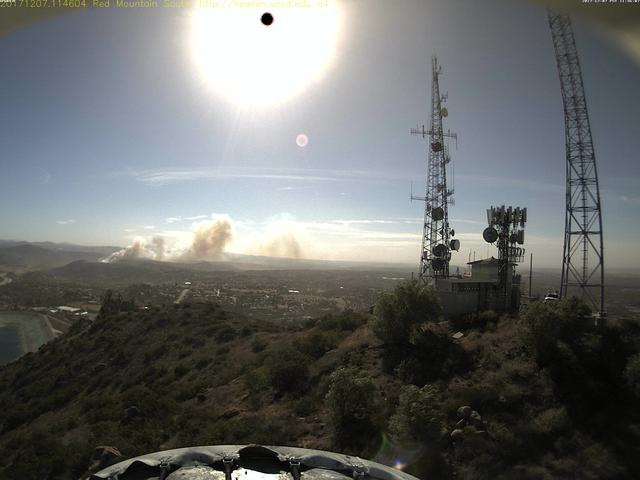smoke: (93, 209, 322, 263)
